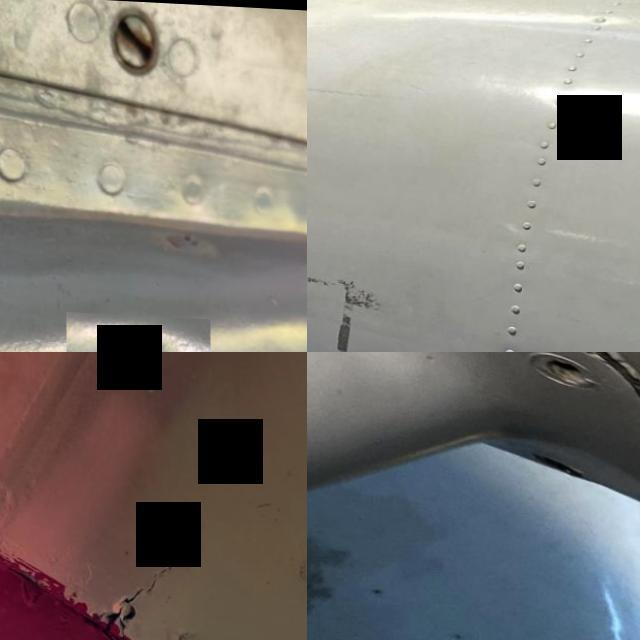Crack: (90, 511, 207, 640), (156, 621, 195, 640)
Dent: (65, 308, 210, 352)
Missing_Fastener: (538, 352, 592, 392)
